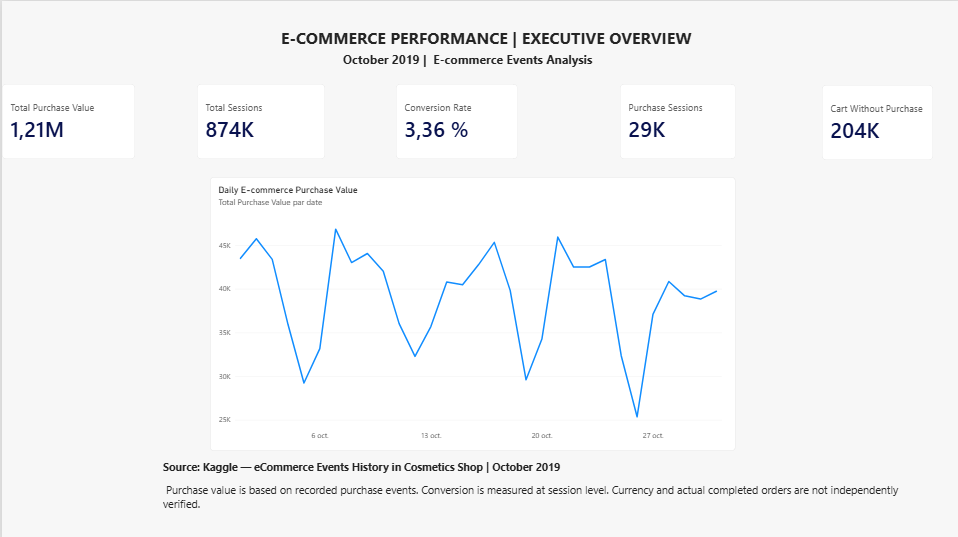

The page's visual inventory and layout, read from the dashboard file:
{"tool":"powerbi","page":{"name":"Executive Review","canvas":[1920,1080],"ordinal":0},"visuals":[{"type":"cardVisual","fields":{"Data":["brand_sales.Conversion Rate"]},"box":[788.1,166.8,243.9,150.1],"z":0},{"type":"cardVisual","fields":{"Data":["brand_sales.Total Purchase Value"]},"box":[0,166.8,266.9,150.1],"z":1},{"type":"cardVisual","fields":{"Data":["brand_sales.Total Sessions"]},"box":[389.9,166.8,256.4,150.1],"z":2},{"type":"lineChart","title":"Daily E-commerce Purchase Value","fields":{"Category":["daily_sales.date"],"Y":["brand_sales.Total Purchase Value"]},"box":[417,352.4,1050.8,548.3],"z":3},{"type":"cardVisual","fields":{"Data":["brand_sales.Purchase Sessions"]},"box":[1236.4,166.8,231.4,150.1],"z":4},{"type":"cardVisual","fields":{"Data":["brand_sales.Cart Without Purchase"]},"box":[1640,167.5,222.5,150],"z":5},{"type":"textbox","box":[558.8,50,825.6,100.1],"z":6},{"type":"textbox","box":[681.8,100.1,702.6,50],"z":7},{"type":"textbox","box":[321.1,915.3,1497,164.7],"z":8}]}

Visuals, with their boxes in screenshot pixels (x1, y1, x2, y2), scaled from the page's 1920x1080 canvas onto the 958x537 screenshot:
cardVisual - brand_sales.Conversion Rate: pyautogui.locateOnScreen(393, 83, 515, 158)
cardVisual - brand_sales.Total Purchase Value: pyautogui.locateOnScreen(0, 83, 133, 158)
cardVisual - brand_sales.Total Sessions: pyautogui.locateOnScreen(195, 83, 322, 158)
"Daily E-commerce Purchase Value" lineChart: pyautogui.locateOnScreen(208, 175, 732, 448)
cardVisual - brand_sales.Purchase Sessions: pyautogui.locateOnScreen(617, 83, 732, 158)
cardVisual - brand_sales.Cart Without Purchase: pyautogui.locateOnScreen(818, 83, 929, 158)
textbox: pyautogui.locateOnScreen(279, 25, 691, 75)
textbox: pyautogui.locateOnScreen(340, 50, 691, 75)
textbox: pyautogui.locateOnScreen(160, 455, 907, 536)
